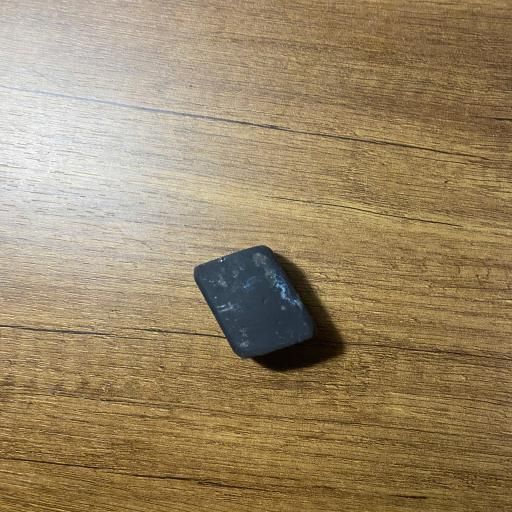T: (191, 244, 320, 361)
